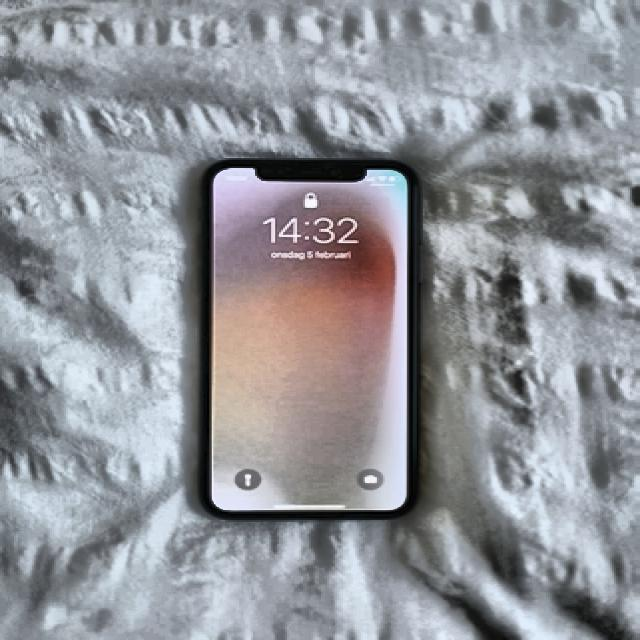Phone: (195, 153, 428, 522)
